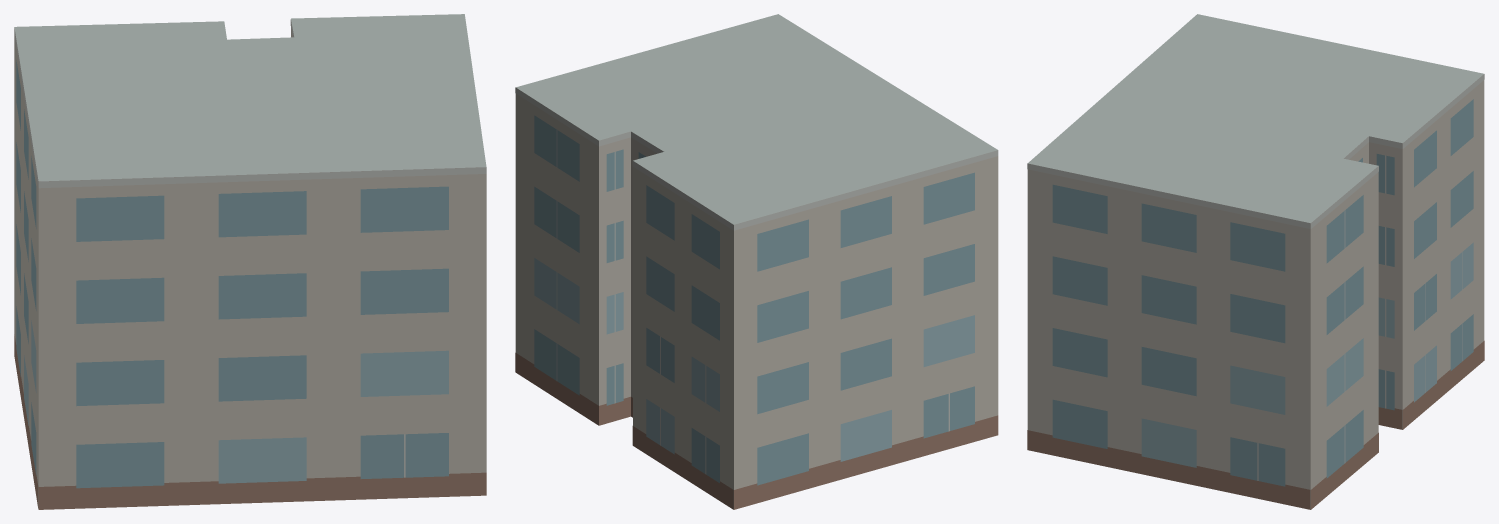
The model's file is survey-upis-32964961.glb.
The picture shows the model from 3 angles, left to right: view 1: azimuth 30°, elevation 25°; view 2: azimuth 150°, elevation 25°; view 3: azimuth 270°, elevation 25°; orthographic projection. The views are drawn at different scales.
Visible parts, largest first — view 1: survey-upis-32964961.tmp; view 2: survey-upis-32964961.tmp; view 3: survey-upis-32964961.tmp.
Part boxes in pixels (bbox=[...]): survey-upis-32964961.tmp: bbox=[14, 14, 486, 509]; survey-upis-32964961.tmp: bbox=[515, 14, 998, 509]; survey-upis-32964961.tmp: bbox=[1027, 14, 1484, 509].
Size of the model in its own units: 18.56 by 11.85 by 17.13.
